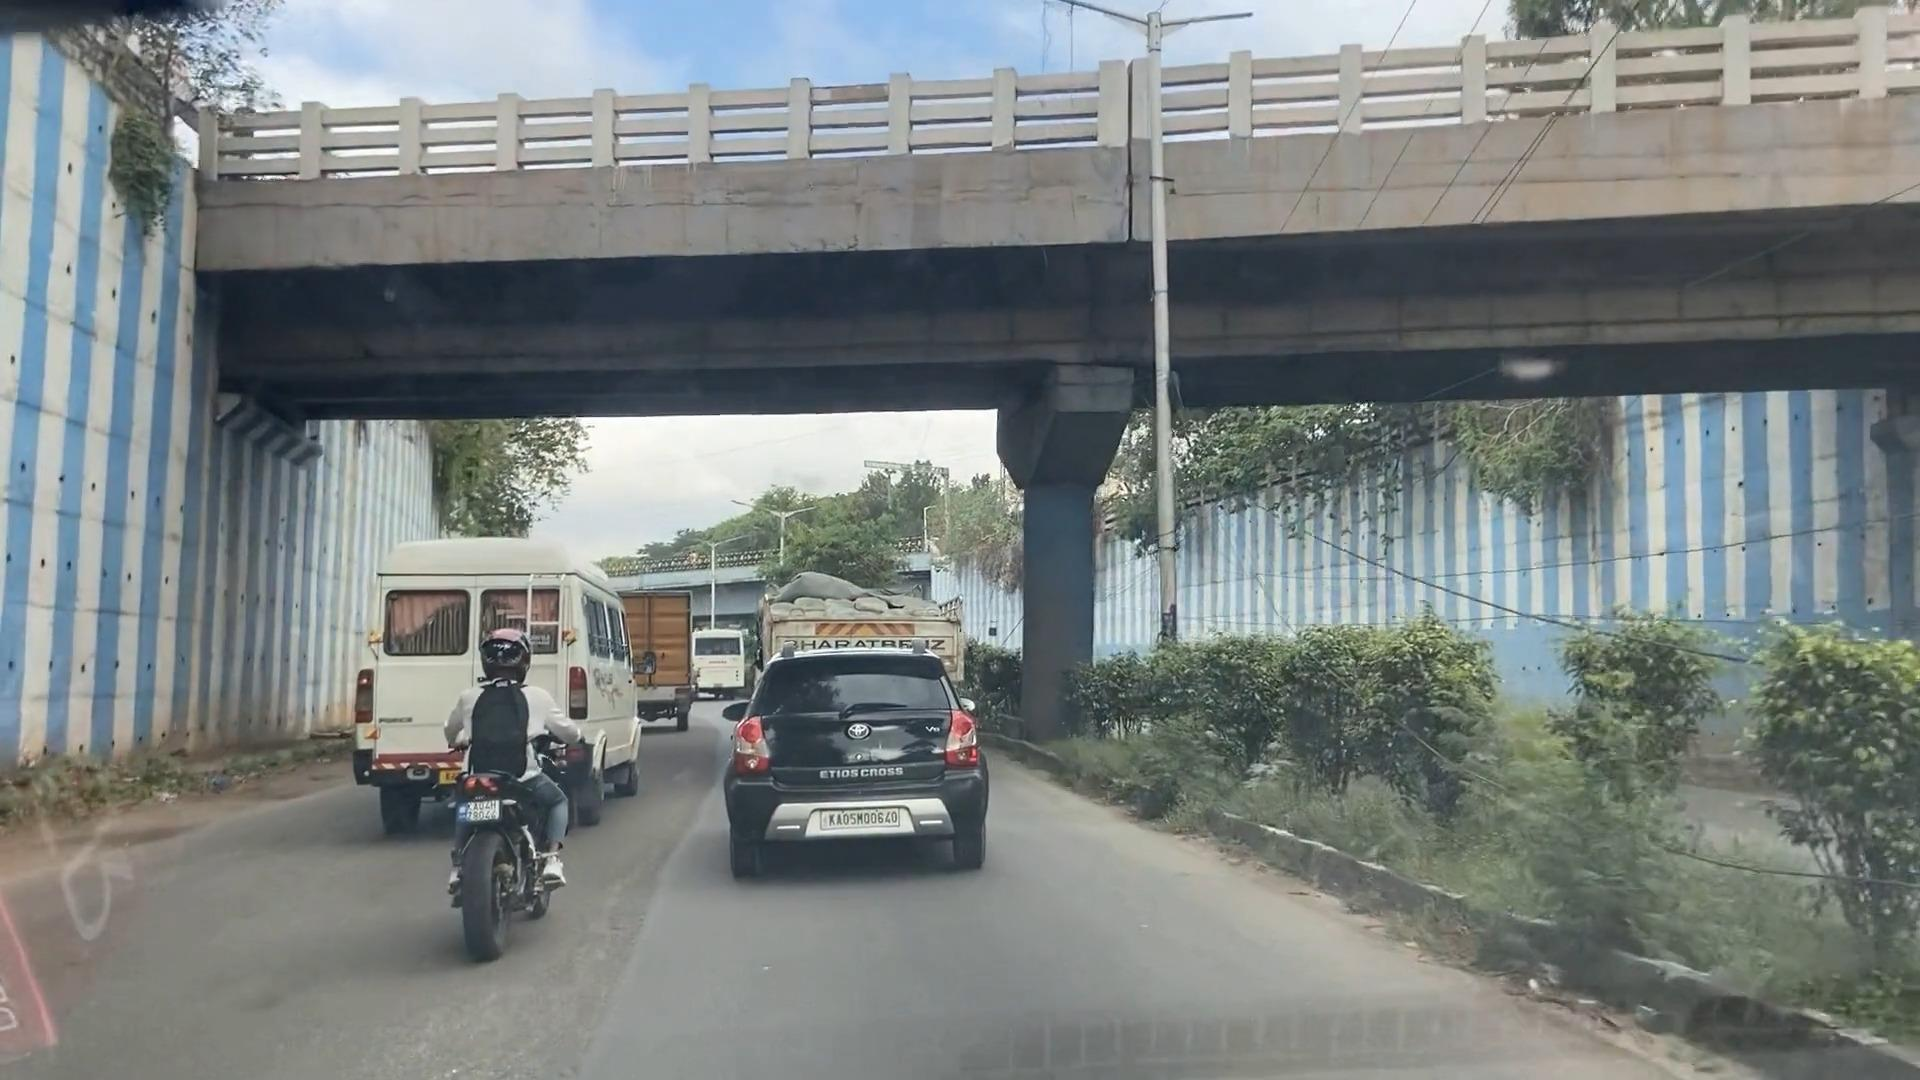HMV: (361, 549, 637, 818)
LMV: (731, 651, 982, 873), (438, 644, 564, 971)
